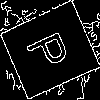P: (24, 25, 79, 75)
